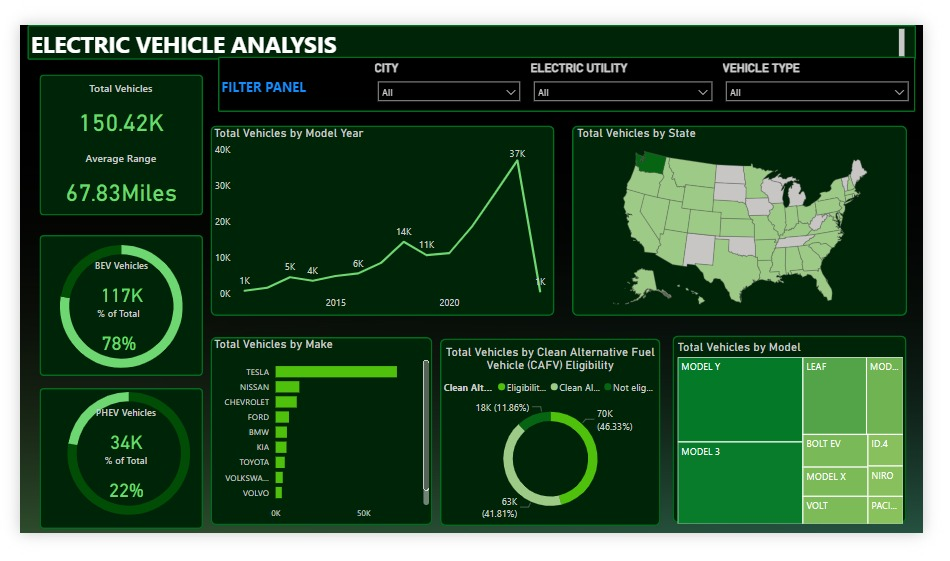

The page's visual inventory and layout, read from the dashboard file:
{"tool":"powerbi","page":{"name":"Page 1","canvas":[1280,720],"ordinal":0},"visuals":[{"type":"shape","box":[11.1,0,1260.4,49.3],"z":0},{"type":"textbox","box":[10.6,0,1248.9,51.1],"z":1000},{"type":"shape","box":[28,70,232,200],"z":2000},{"type":"card","title":"Total Vehicles","fields":{"Values":["Electric_Vehicle_Population_Data.Total Customer"]},"box":[36,78,214,92],"z":3000},{"type":"card","title":"Average Range","fields":{"Values":["Electric_Vehicle_Population_Data.Average Rage"]},"box":[36,178,214,92],"z":4000},{"type":"shape","box":[28,298,232,200],"z":5000},{"type":"shape","box":[28,514,232,200],"z":6000},{"type":"donutChart","fields":{"Category":["Electric_Vehicle_Population_Data.Electric Vehicle Type"],"Y":["Electric_Vehicle_Population_Data.Total Customer"]},"box":[28.2,286,231.4,227.7],"z":7000},{"type":"card","title":"BEV Vehicles","fields":{"Values":["Electric_Vehicle_Population_Data.BEV Vehicles"]},"box":[32,331.1,223.9,82.8],"z":8000},{"type":"card","title":"% of Total","fields":{"Values":["Electric_Vehicle_Population_Data.% of BEV"]},"box":[28.2,400.7,223.9,82.8],"z":9000},{"type":"donutChart","fields":{"Category":["Electric_Vehicle_Population_Data.Electric Vehicle Type"],"Y":["Electric_Vehicle_Population_Data.Total Customer"]},"box":[37.6,492.9,231.4,227.7],"z":10000},{"type":"card","title":"PHEV Vehicles","fields":{"Values":["Electric_Vehicle_Population_Data.PHEV Vehicles"]},"box":[37.6,540,223.9,82.8],"z":11000},{"type":"card","title":"% of Total","fields":{"Values":["Electric_Vehicle_Population_Data.% OF PHEV"]},"box":[37.6,607.7,223.9,82.8],"z":12000},{"type":"shape","box":[280.9,44.7,989.4,78.7],"z":13000},{"type":"shape","box":[270.2,143,487.9,270.2],"z":14000},{"type":"lineChart","fields":{"Category":["Electric_Vehicle_Population_Data.Model Year"],"Y":["Electric_Vehicle_Population_Data.Total Vehicles"]},"box":[270.2,142.6,487.2,270.2],"z":15000},{"type":"shape","box":[783.6,143,475.2,270.2],"z":16000},{"type":"shape","box":[270.2,441.9,314.7,267],"z":17000},{"type":"shapeMap","fields":{"Category":["Electric_Vehicle_Population_Data.State"],"Value":["Electric_Vehicle_Population_Data.Total Vehicles"]},"box":[785.1,142.6,472.3,270.2],"z":18000},{"type":"shape","box":[595.7,444.7,312.8,266],"z":19000},{"type":"donutChart","fields":{"Category":["Electric_Vehicle_Population_Data.Clean Alternative Fuel Vehicle (CAFV) Eligibility"],"Y":["Electric_Vehicle_Population_Data.Total Vehicles"]},"box":[595.7,453.2,312.8,255.3],"z":20000},{"type":"clusteredBarChart","fields":{"Category":["Electric_Vehicle_Population_Data.Make"],"Y":["Electric_Vehicle_Population_Data.Total Vehicles"]},"box":[270.2,441.9,314.7,267],"z":21000},{"type":"shape","box":[925.5,440.4,331.9,266],"z":22000},{"type":"treemap","fields":{"Group":["Electric_Vehicle_Population_Data.Model"],"Values":["Electric_Vehicle_Population_Data.Total Vehicles"]},"box":[927.7,446.8,329.8,266],"z":23000},{"type":"textbox","box":[280.9,70.2,176.6,42.6],"z":24000},{"type":"slicer","title":"CITY","fields":{"Values":["Electric_Vehicle_Population_Data.City"]},"box":[497.9,51.1,221.3,61.7],"z":25000},{"type":"slicer","title":"ELECTRIC UTILITY","fields":{"Values":["Electric_Vehicle_Population_Data.Electric Utility"]},"box":[719.1,51.1,272.3,72.3],"z":25001},{"type":"slicer","title":"VEHICLE TYPE","fields":{"Values":["Electric_Vehicle_Population_Data.Electric Vehicle Type"]},"box":[991.5,51.1,278.7,78.7],"z":25002}]}

Visuals, with their boxes on the page's 1280x720 design canvas (x1, y1, x2, y2). These are canvas units, not pixel positions in the 950x561 screenshot, which may show the page scaled, cropped or inside an application window:
shape: Rect(11, 0, 1272, 49)
textbox: Rect(11, 0, 1260, 51)
shape: Rect(28, 70, 260, 270)
"Total Vehicles" card: Rect(36, 78, 250, 170)
"Average Range" card: Rect(36, 178, 250, 270)
shape: Rect(28, 298, 260, 498)
shape: Rect(28, 514, 260, 714)
donutChart - Electric_Vehicle_Population_Data.Electric Vehicle Type x Electric_Vehicle_Population_Data.Total Customer: Rect(28, 286, 260, 514)
"BEV Vehicles" card: Rect(32, 331, 256, 414)
"% of Total" card: Rect(28, 401, 252, 484)
donutChart - Electric_Vehicle_Population_Data.Electric Vehicle Type x Electric_Vehicle_Population_Data.Total Customer: Rect(38, 493, 269, 721)
"PHEV Vehicles" card: Rect(38, 540, 262, 623)
"% of Total" card: Rect(38, 608, 262, 690)
shape: Rect(281, 45, 1270, 123)
shape: Rect(270, 143, 758, 413)
lineChart - Electric_Vehicle_Population_Data.Model Year x Electric_Vehicle_Population_Data.Total Vehicles: Rect(270, 143, 757, 413)
shape: Rect(784, 143, 1259, 413)
shape: Rect(270, 442, 585, 709)
shapeMap - Electric_Vehicle_Population_Data.State x Electric_Vehicle_Population_Data.Total Vehicles: Rect(785, 143, 1257, 413)
shape: Rect(596, 445, 908, 711)
donutChart - Electric_Vehicle_Population_Data.Clean Alternative Fuel Vehicle (CAFV) Eligibility x Electric_Vehicle_Population_Data.Total Vehicles: Rect(596, 453, 908, 708)
clusteredBarChart - Electric_Vehicle_Population_Data.Make x Electric_Vehicle_Population_Data.Total Vehicles: Rect(270, 442, 585, 709)
shape: Rect(926, 440, 1257, 706)
treemap - Electric_Vehicle_Population_Data.Model x Electric_Vehicle_Population_Data.Total Vehicles: Rect(928, 447, 1258, 713)
textbox: Rect(281, 70, 458, 113)
"CITY" slicer: Rect(498, 51, 719, 113)
"ELECTRIC UTILITY" slicer: Rect(719, 51, 991, 123)
"VEHICLE TYPE" slicer: Rect(992, 51, 1270, 130)
